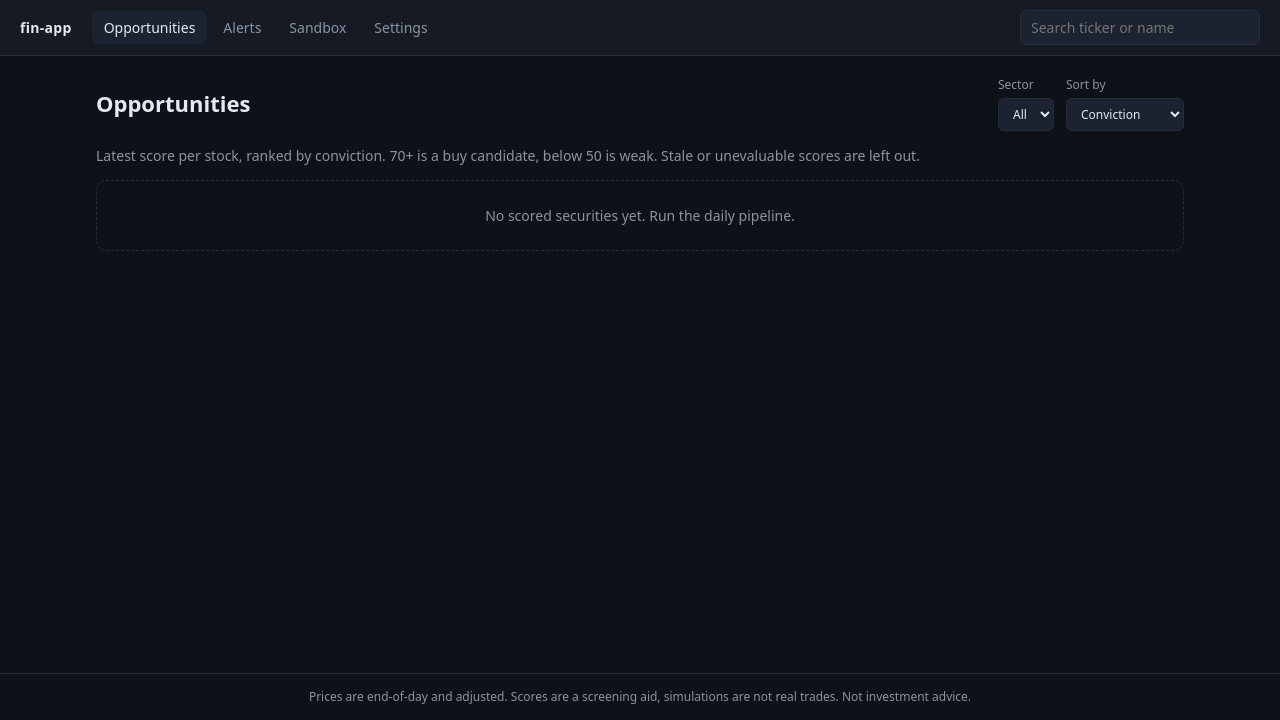
Scenario: typing in the search box asks the API once, after a short pause
In the search field named "Search securities": point(1140, 28) [1020, 10, 1260, 45], type "apple"
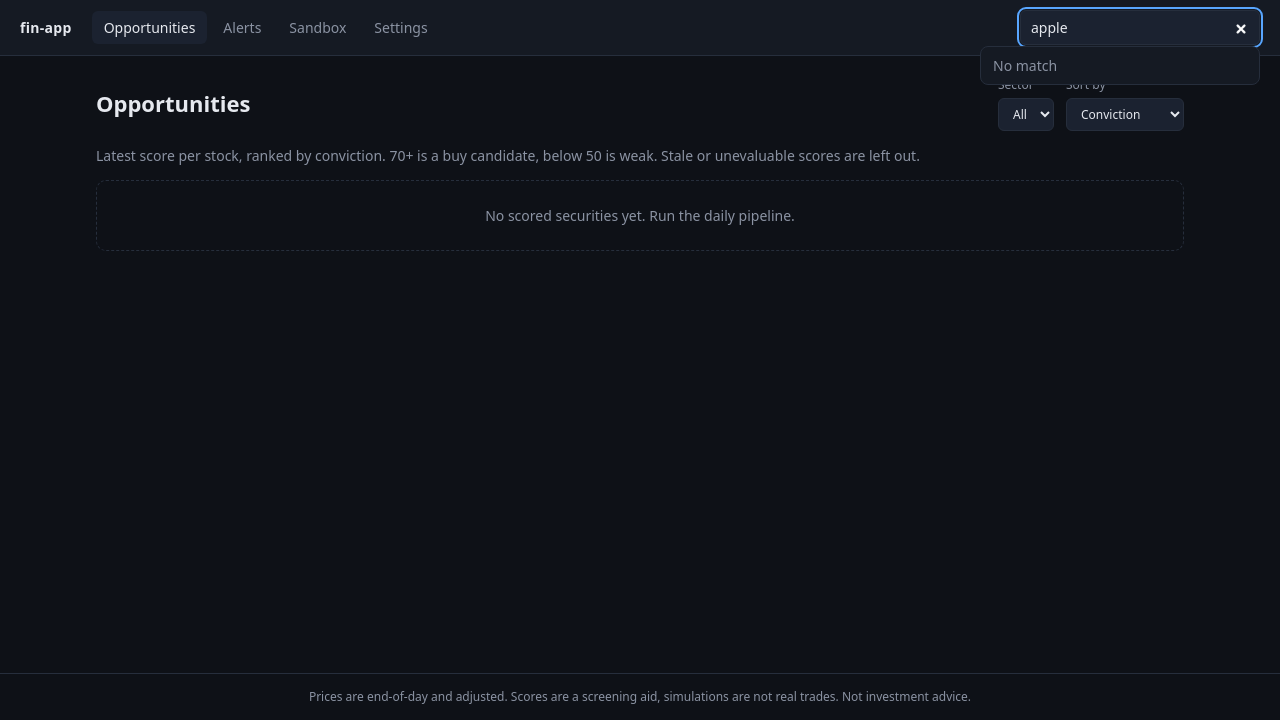
Check: the list item "No match" is shown, box [993, 56, 1057, 75]
